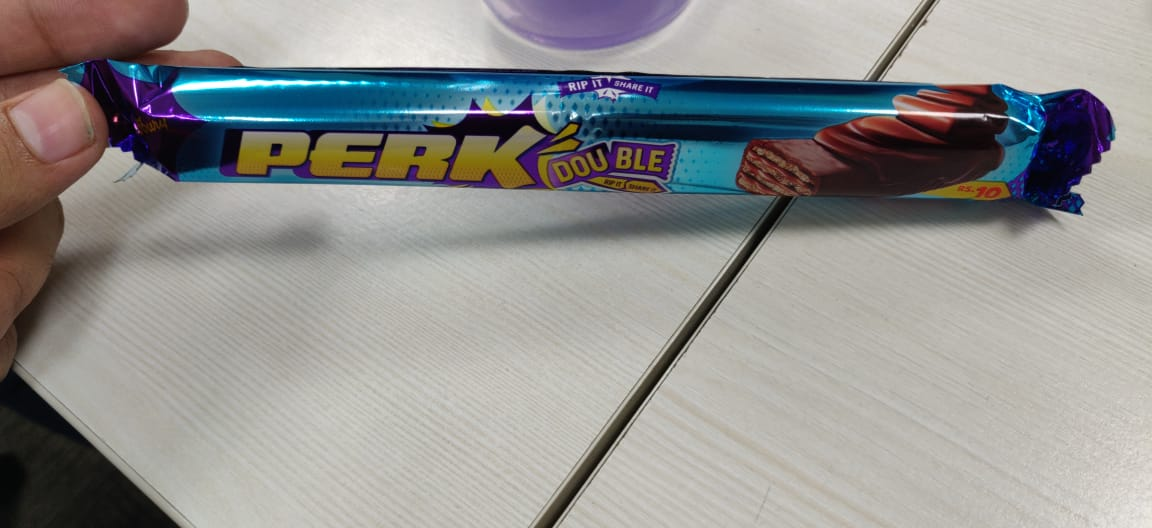perk: (54, 47, 1130, 231)
